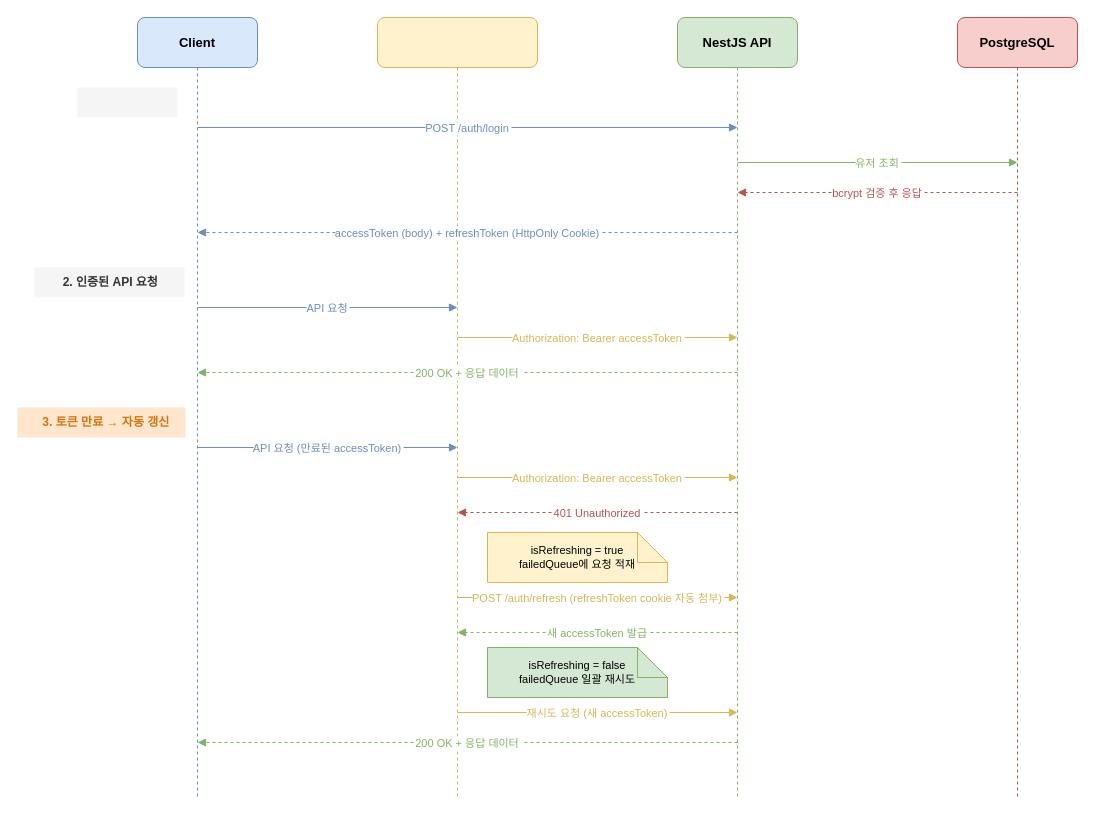
Image size: 1095x816. Some labels were removed from this diagram. Each missing label, with the box of its shape:
1. 로그인: (77, 87, 177, 117)
Axios Interceptor: (376, 16, 538, 68)
